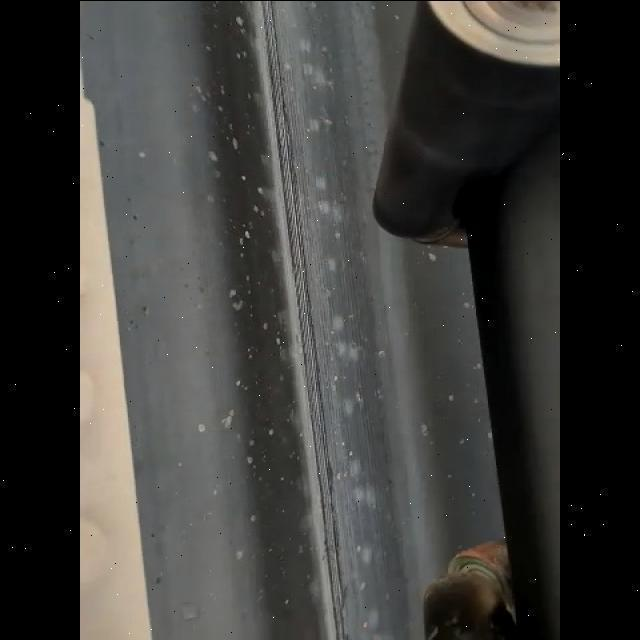Wear: (254, 0, 354, 638)
